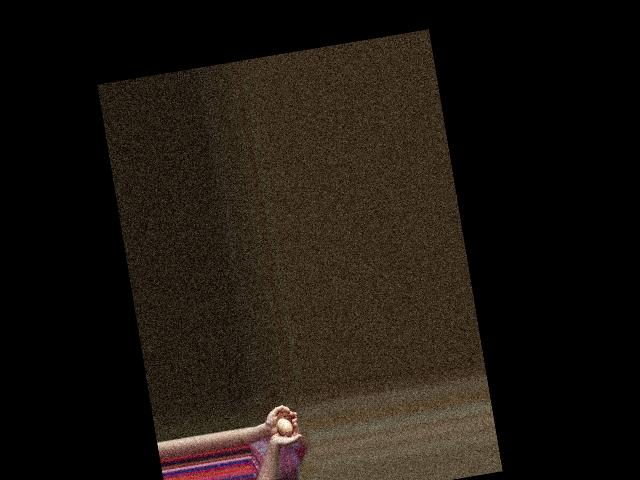egg: (276, 417, 294, 437)
